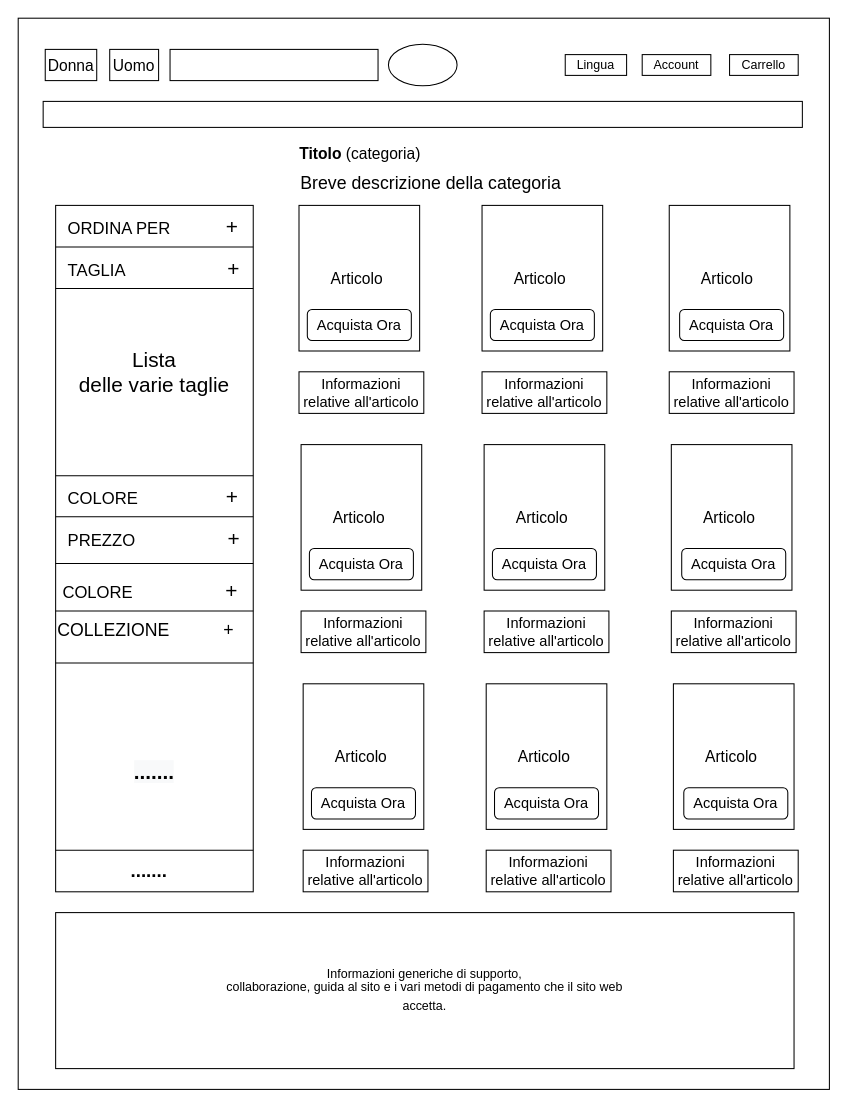
The diagram is 848 pixels wide and 1108 high, and some of its shapes have lost their labels. Here are the shapes that lost their labels. From the top down, the centre of each, then its label:
pixel 273 64: Ricerca
pixel 422 64: Tøj
pixel 422 113: Menù Navigazionale
